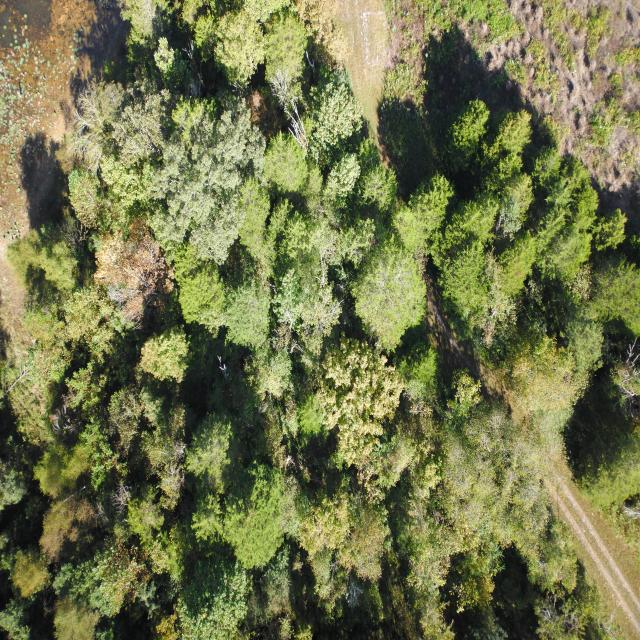Area of Interest: (8, 16, 635, 633)
